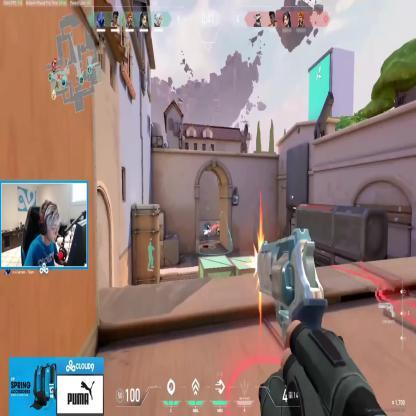enemy: (216, 221, 221, 236), (205, 225, 209, 240)
enemy_head: (216, 220, 218, 226), (206, 225, 208, 228)
